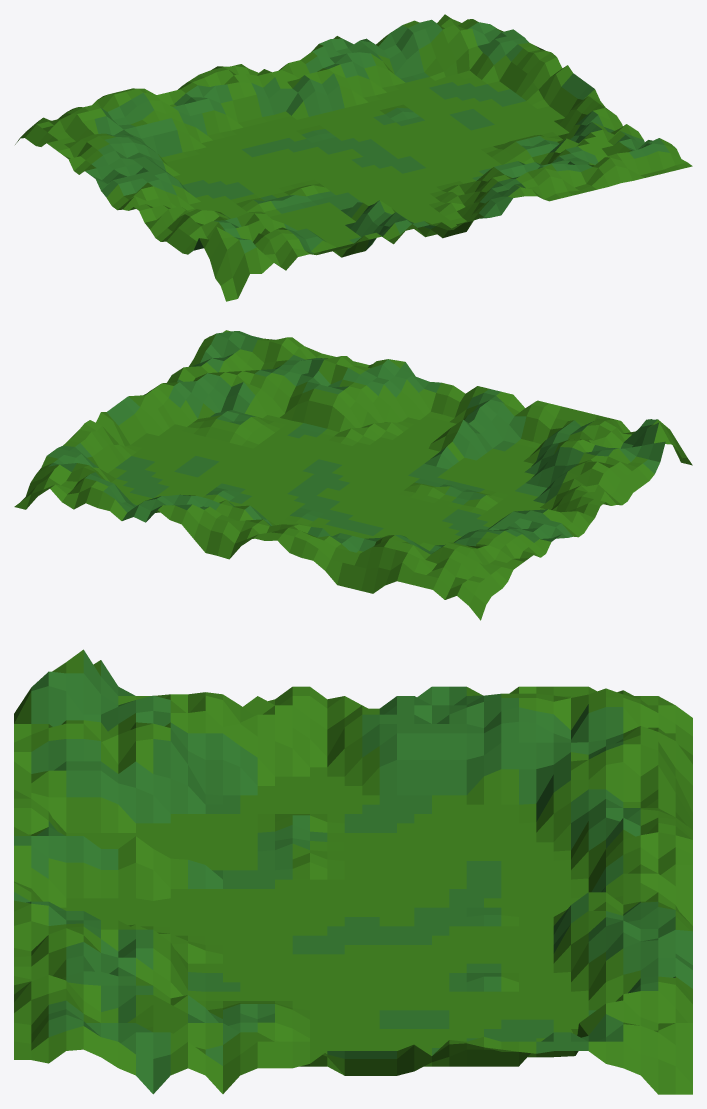
Rendered from World.fbx.
3 renders of one model, top to bottom at view 1: azimuth 30°, elevation 25°; view 2: azimuth 150°, elevation 25°; view 3: azimuth 270°, elevation 25°, orthographic. The views are drawn at different scales.
Parts seen in each view (by area): view 1: World; view 2: World; view 3: World.
Boxes of the visible parts, box(x1,y1,x2,y2) form: World: box(15, 14, 692, 301); World: box(14, 330, 692, 620); World: box(14, 649, 692, 1094).
Bounding box in the file's own units: 1356 × 156 × 1067.
